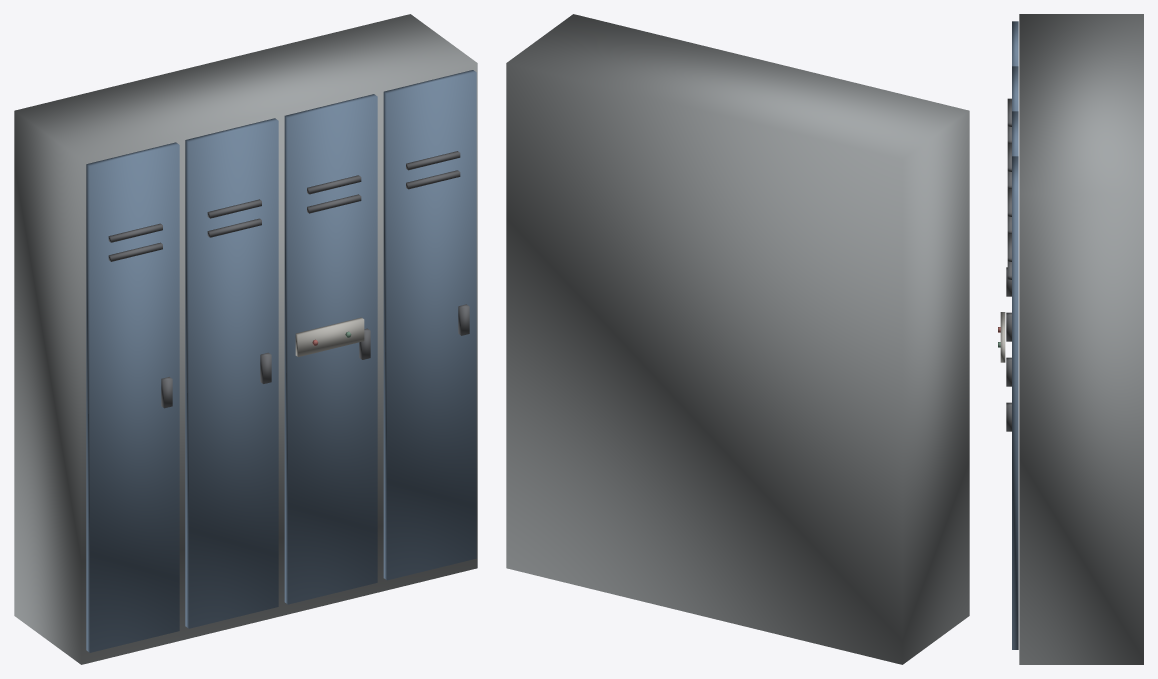
The model's file is school_locker_bank__compact.glb.
3 renders of one model, left to right at view 1: azimuth 30°, elevation 25°; view 2: azimuth 150°, elevation 25°; view 3: azimuth 270°, elevation 25°, orthographic. The views are drawn at different scales.
Parts seen in each view (by area): view 1: world; view 2: world; view 3: world.
Part boxes in pixels (<box>): world: <box>14,14,477,664</box>; world: <box>506,14,969,664</box>; world: <box>998,14,1143,664</box>.
Bounding box in the file's own units: 1.41 × 1.72 × 0.4825.
